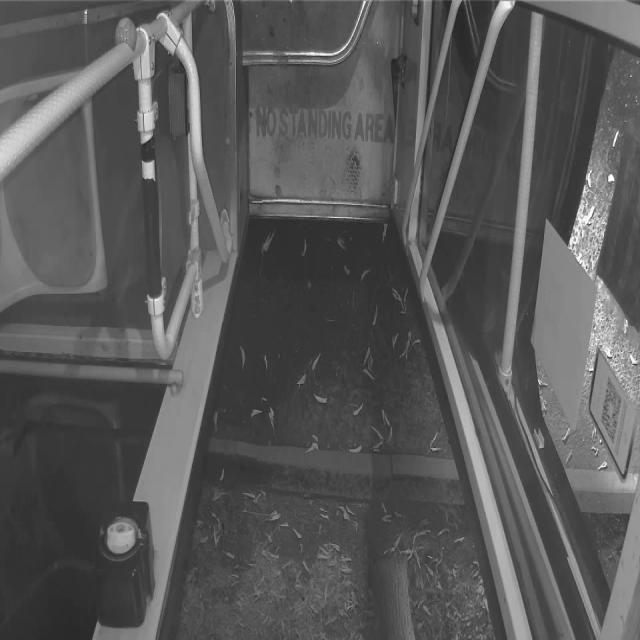open: (193, 205, 532, 640)
